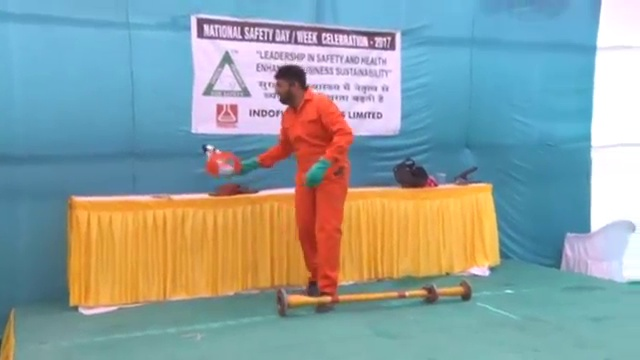helmet_off: (276, 64, 306, 105)
person: (258, 62, 353, 312)
